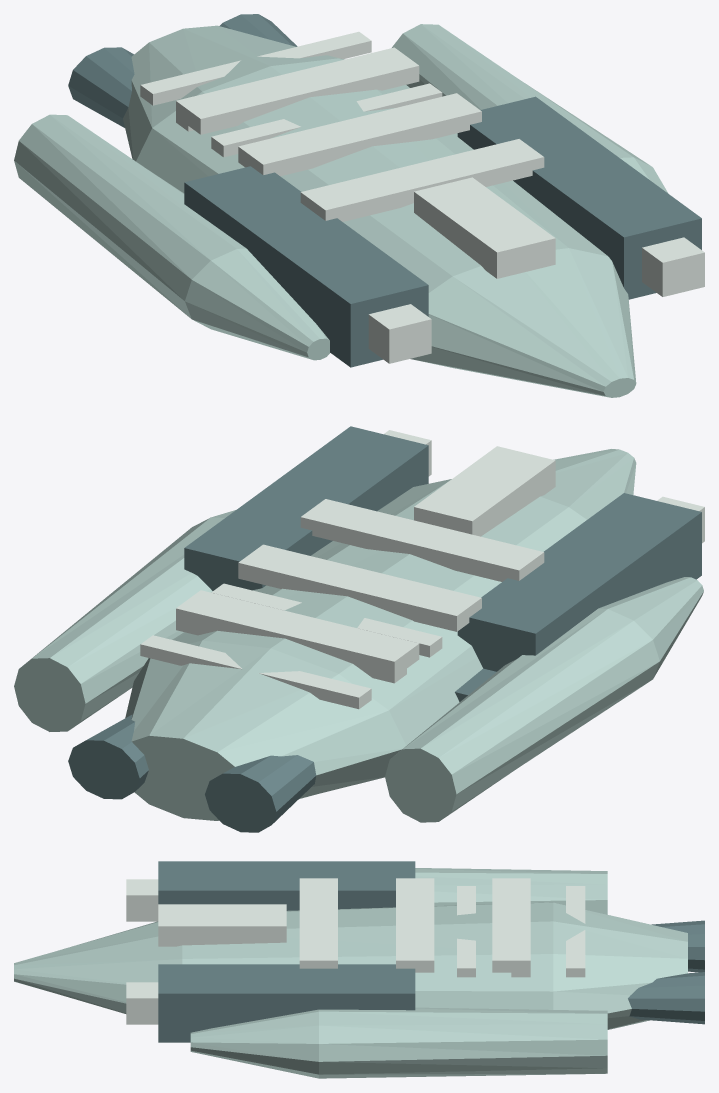
3 renders of one model, top to bottom at view 1: azimuth 30°, elevation 25°; view 2: azimuth 150°, elevation 25°; view 3: azimuth 270°, elevation 25°, orthographic. The views are drawn at different scales.
Size of the model in its own units: 3.01 by 0.848 by 4.91.
